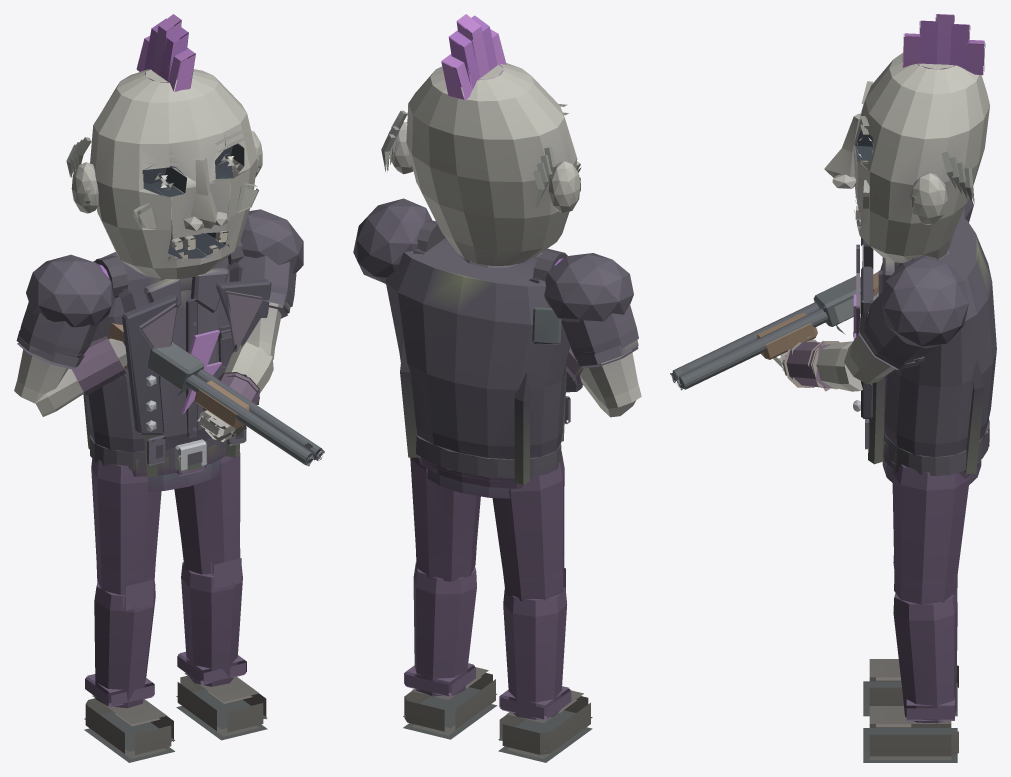
File: GrandfatherPunk.glb
3 renders of one model, left to right at view 1: azimuth 30°, elevation 25°; view 2: azimuth 150°, elevation 25°; view 3: azimuth 270°, elevation 25°, orthographic. The views are drawn at different scales.
Parts seen in each view (by area): view 1: Head, Body, LegR, LegL, ArmR, ArmL; view 2: Body, Head, LegR, LegL, ArmR, ArmL; view 3: Head, Body, LegL, ArmL, LegR.
Boxes of the visible parts, bbox=[...] form: Head: bbox=[66, 14, 262, 279]; Body: bbox=[83, 240, 324, 491]; LegR: bbox=[84, 459, 174, 762]; LegL: bbox=[174, 450, 267, 740]; ArmR: bbox=[14, 254, 127, 416]; ArmL: bbox=[197, 209, 303, 441]; Body: bbox=[385, 219, 582, 498]; Head: bbox=[381, 14, 581, 265]; LegR: bbox=[492, 451, 592, 762]; LegL: bbox=[403, 457, 497, 739]; ArmR: bbox=[544, 253, 641, 417]; ArmL: bbox=[353, 198, 431, 283]; Head: bbox=[824, 14, 989, 263]; Body: bbox=[670, 216, 996, 484]; LegL: bbox=[863, 464, 969, 762]; ArmL: bbox=[773, 257, 968, 391]; LegR: bbox=[863, 555, 958, 716].
Size of the model in its own units: 2.76 by 6.64 by 2.72.
